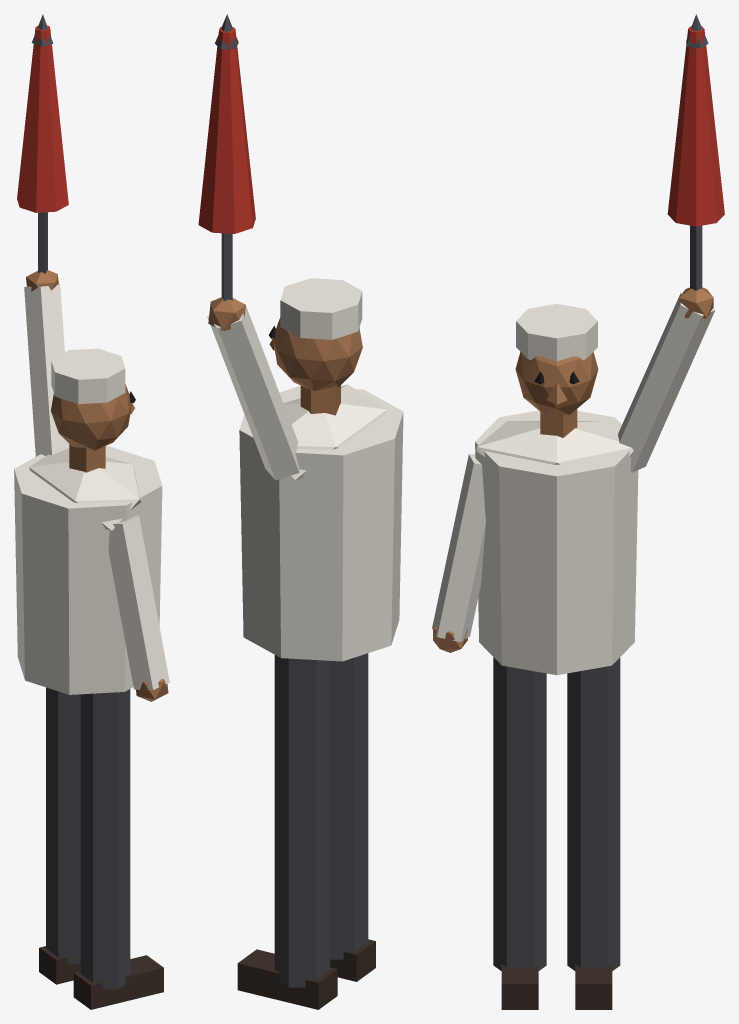
File: guide_paraply.glb
The picture shows the model from 3 angles, left to right: view 1: azimuth 30°, elevation 25°; view 2: azimuth 150°, elevation 25°; view 3: azimuth 270°, elevation 25°; orthographic projection. The views are drawn at different scales.
Parts seen in each view (by area): view 1: guide_paraply; view 2: guide_paraply; view 3: guide_paraply.
Boxes of the visible parts, bbox=[...] form: guide_paraply: bbox=[14, 14, 169, 1009]; guide_paraply: bbox=[198, 14, 403, 1009]; guide_paraply: bbox=[432, 14, 724, 1009].
Bounding box in the file's own units: 0.4 × 2.64 × 0.7149.
